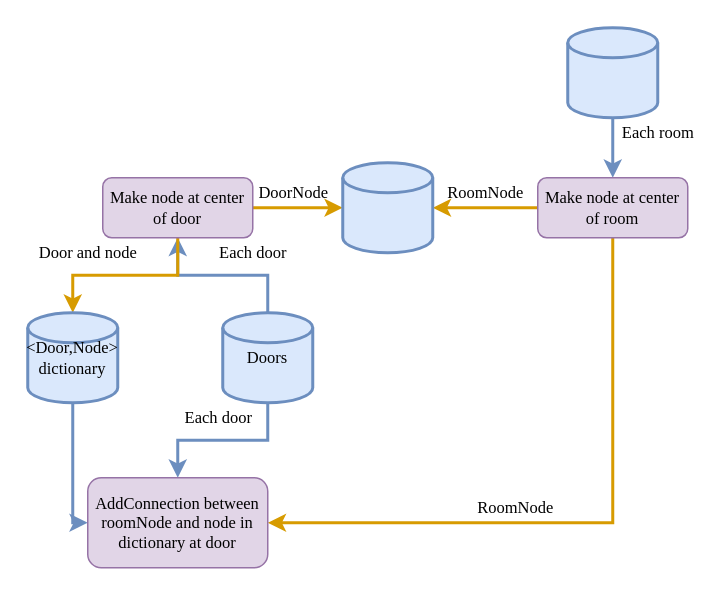
Image size: 728x594. Some labels were removed from this diagram. Here are the shapes that lost their labels. From the top down, the centre of each, then its label:
At pixel 612 72: "Rooms".
At pixel 387 207: "Nodes".
